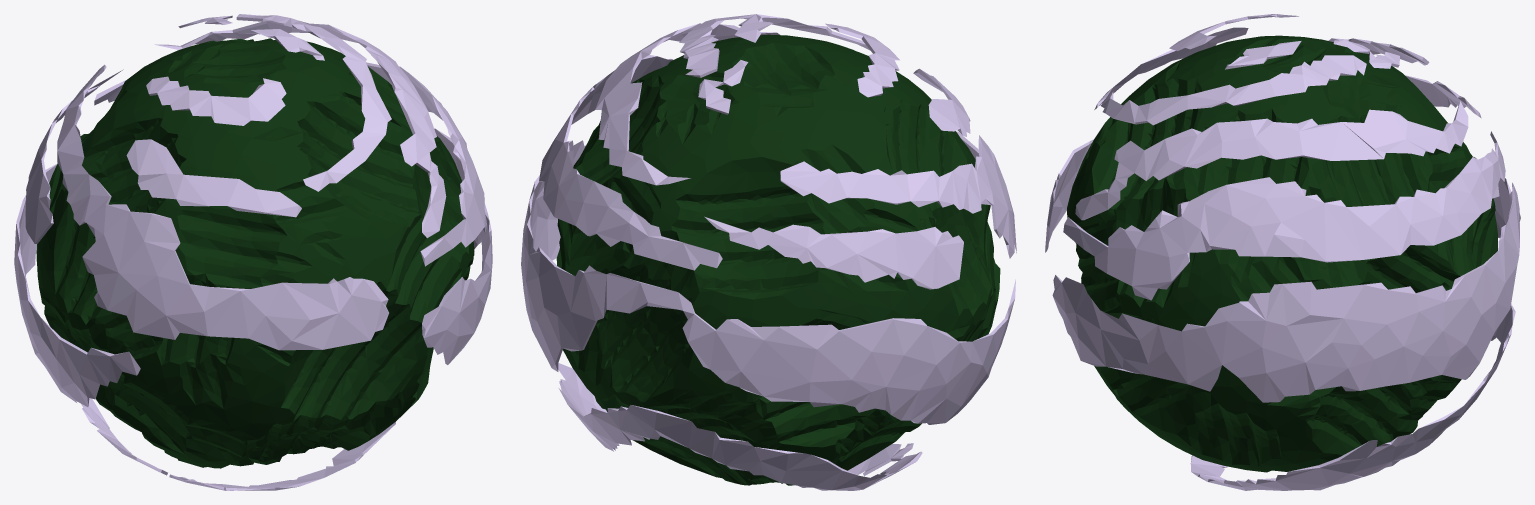
File: Planet_46.glb
3 renders of one model, left to right at view 1: azimuth 30°, elevation 25°; view 2: azimuth 150°, elevation 25°; view 3: azimuth 270°, elevation 25°, orthographic. The views are drawn at different scales.
Parts seen in each view (by area): view 1: Planet_46; view 2: Planet_46; view 3: Planet_46.
Boxes of the visible parts, x1,y1,x2,y2 form: Planet_46: (14, 14, 492, 490); Planet_46: (521, 14, 1016, 490); Planet_46: (1045, 14, 1520, 490).
Size of the model in its own units: 21.89 by 21.64 by 21.78.
1 material, 1 textured.
